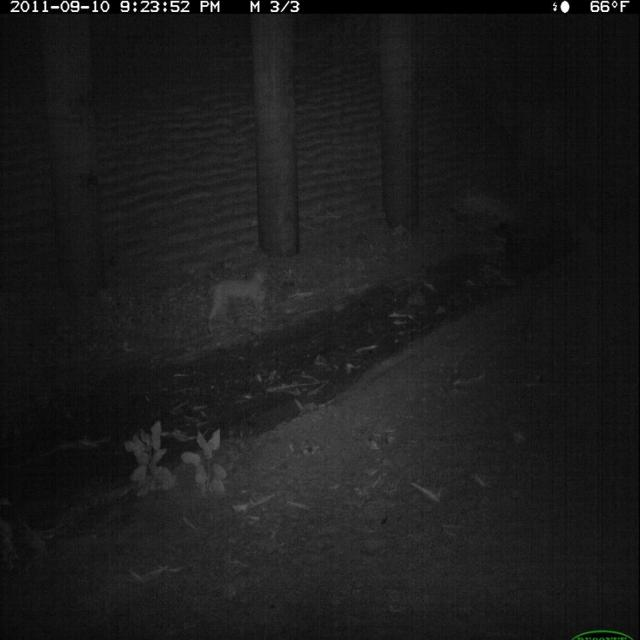bobcat: (201, 261, 273, 343)
